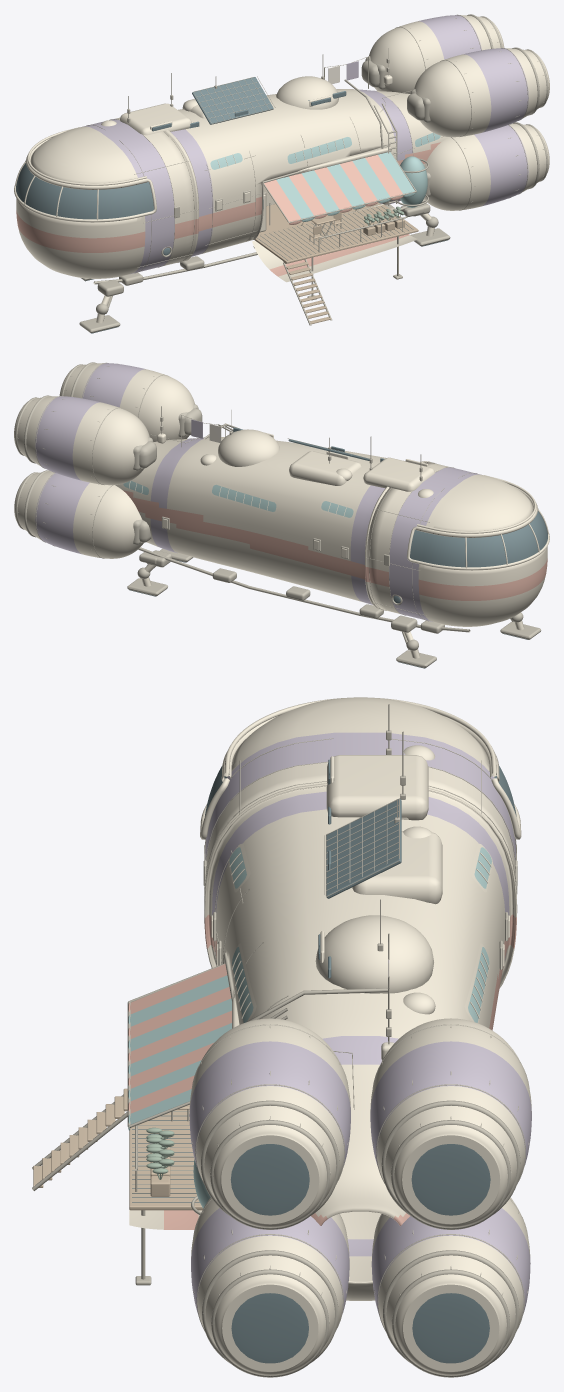
File: caravan.glb
3 renders of one model, top to bottom at view 1: azimuth 30°, elevation 25°; view 2: azimuth 150°, elevation 25°; view 3: azimuth 270°, elevation 25°, orthographic. The views are drawn at different scales.
Parts seen in each view (by area): view 1: hull surfaces, booster-starboard-upper surfaces, booster-starboard-lower surfaces, awning surfaces, booster-port-upper surfaces, porch-panel surfaces, cockpit surfaces, roof surfaces, solar-panel surfaces, landing-gear surfaces, ramp surfaces, water-tank surfaces (+3 smaller); view 2: hull surfaces, booster-port-upper surfaces, booster-port-lower surfaces, booster-starboard-upper surfaces, roof surfaces, cockpit surfaces, landing-gear surfaces, laundry surfaces; view 3: hull surfaces, booster-port-upper surfaces, booster-starboard-upper surfaces, booster-starboard-lower surfaces, booster-port-lower surfaces, roof surfaces, awning surfaces, porch-panel surfaces, solar-panel surfaces, cockpit surfaces, ramp surfaces, plants surfaces.
Boxes of the visible parts, x1=… form: hull surfaces: x1=16, y1=89, x2=448, y2=285; booster-starboard-upper surfaces: x1=407, y1=47, x2=549, y2=137; booster-starboard-lower surfaces: x1=424, y1=122, x2=549, y2=210; awning surfaces: x1=263, y1=151, x2=416, y2=224; booster-port-upper surfaces: x1=361, y1=14, x2=504, y2=93; porch-panel surfaces: x1=252, y1=204, x2=418, y2=282; cockpit surfaces: x1=14, y1=127, x2=156, y2=222; roof surfaces: x1=101, y1=48, x2=392, y2=148; solar-panel surfaces: x1=192, y1=76, x2=275, y2=124; landing-gear surfaces: x1=79, y1=202, x2=450, y2=333; ramp surfaces: x1=283, y1=259, x2=331, y2=325; water-tank surfaces: x1=395, y1=156, x2=428, y2=207; hull surfaces: x1=115, y1=434, x2=547, y2=633; booster-port-upper surfaces: x1=14, y1=395, x2=156, y2=485; booster-port-lower surfaces: x1=14, y1=470, x2=151, y2=558; booster-starboard-upper surfaces: x1=59, y1=362, x2=202, y2=441; roof surfaces: x1=157, y1=406, x2=434, y2=497; cockpit surfaces: x1=407, y1=475, x2=549, y2=570; landing-gear surfaces: x1=127, y1=548, x2=541, y2=668; laundry surfaces: x1=181, y1=415, x2=225, y2=447; hull surfaces: x1=203, y1=697, x2=517, y2=1300; booster-port-upper surfaces: x1=370, y1=1018, x2=531, y2=1229; booster-starboard-upper surfaces: x1=189, y1=1018, x2=350, y2=1229; booster-starboard-lower surfaces: x1=191, y1=1197, x2=349, y2=1377; booster-port-lower surfaces: x1=371, y1=1197, x2=530, y2=1377; roof surfaces: x1=246, y1=704, x2=442, y2=1060; awning surfaces: x1=127, y1=963, x2=231, y2=1130; porch-panel surfaces: x1=129, y1=1109, x2=202, y2=1229; solar-panel surfaces: x1=324, y1=798, x2=401, y2=898; cockpit surfaces: x1=200, y1=698, x2=521, y2=839; ramp surfaces: x1=32, y1=1088, x2=127, y2=1190; plants surfaces: x1=146, y1=1127, x2=174, y2=1196.
Bounding box in the file's own units: 40.2 × 15.48 × 17.69.
